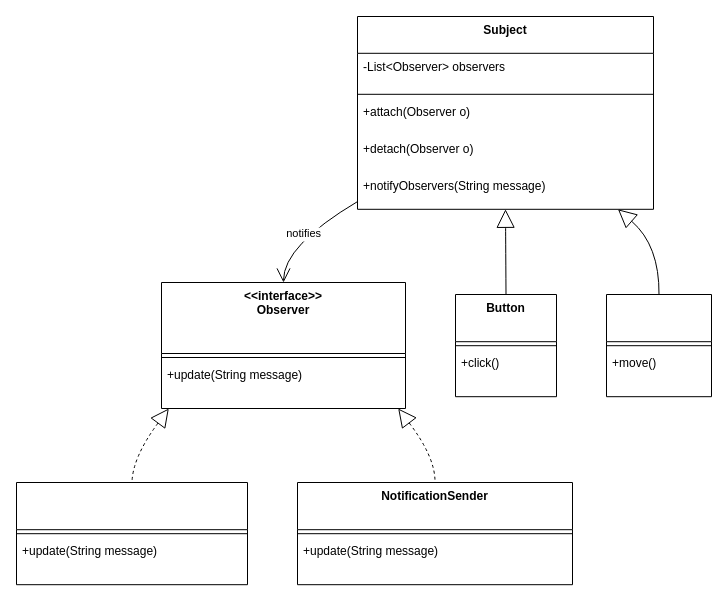
The diagram is 728 pixels wide and 601 high, and some of its shapes have lost their labels. Each missing label, with the box of its shape:
Logger: (16, 482, 248, 585)
Slider: (606, 294, 712, 397)
